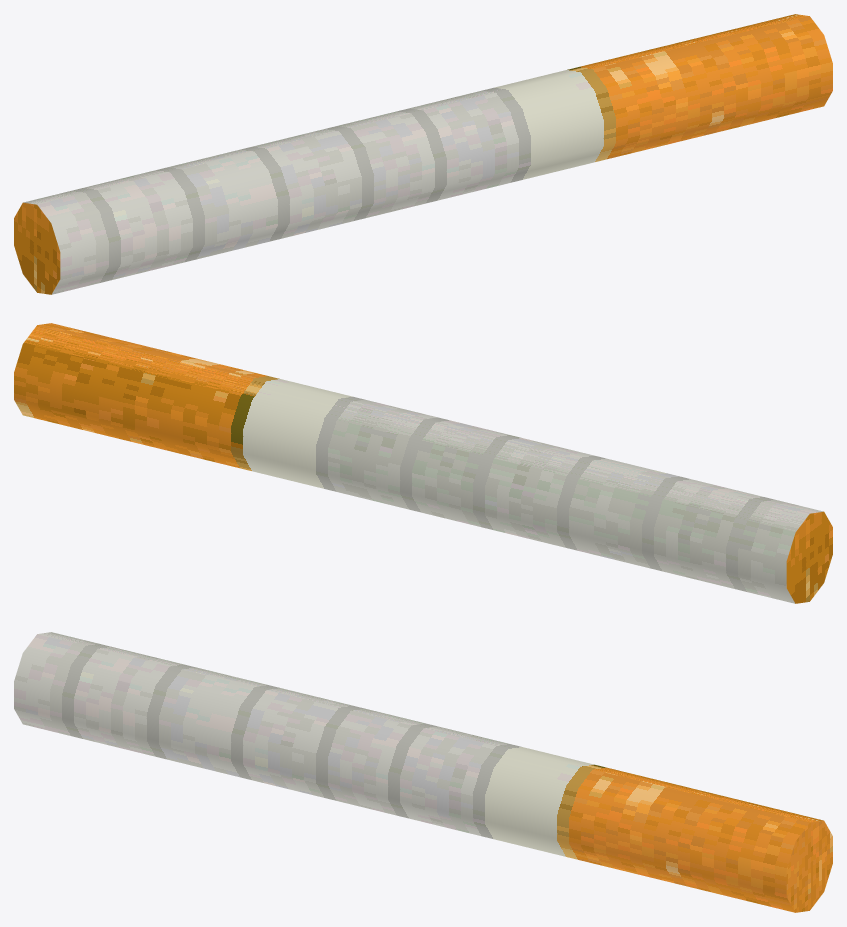
Rendered from cigarette_king_size_psx_style.glb.
3 views of the same model, one above another, from view 1: azimuth 30°, elevation 25°; view 2: azimuth 150°, elevation 25°; view 3: azimuth 330°, elevation 25° (orthographic).
Parts seen in each view (by area): view 1: SM_CigaretteKing; view 2: SM_CigaretteKing; view 3: SM_CigaretteKing.
Boxes of the visible parts, x1,y1,x2,y2 form: SM_CigaretteKing: (14,14,832,294); SM_CigaretteKing: (14,323,832,603); SM_CigaretteKing: (14,632,832,912).
Bounding box in the file's own units: 0.0839 × 0.00915 × 0.0087.
Materials: 1 (1 with a texture image).
